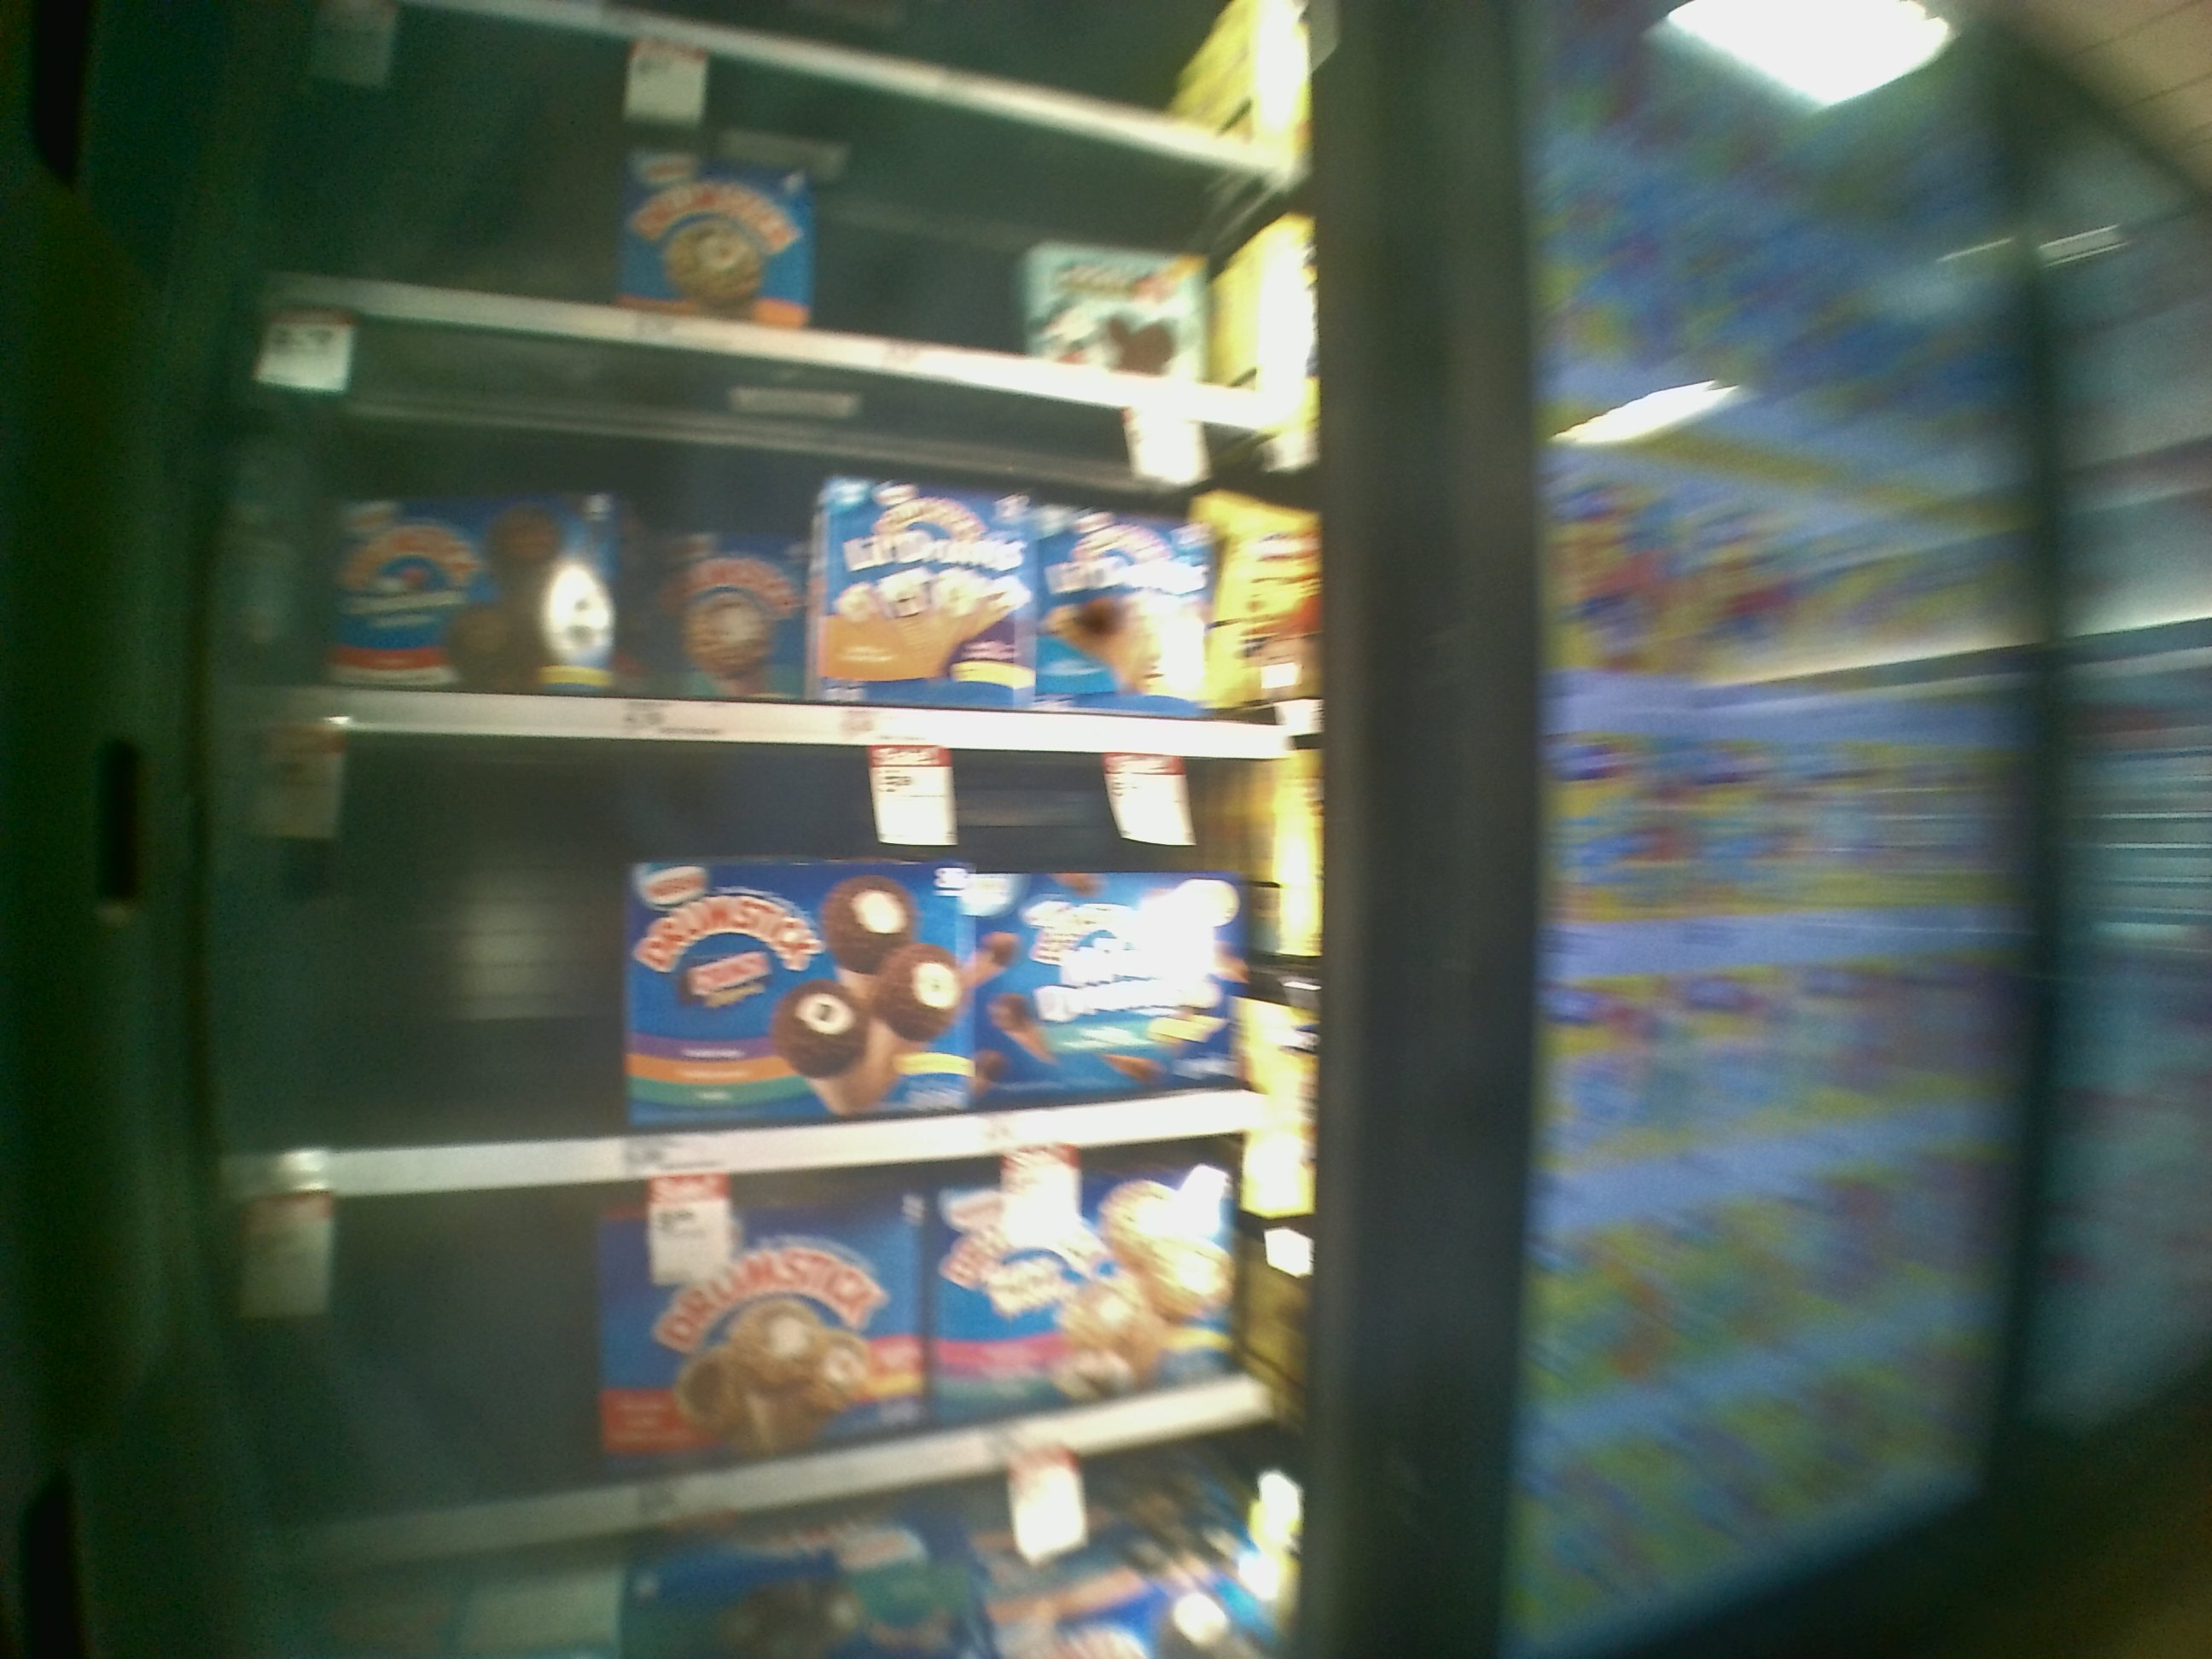shelf: (249, 742, 1355, 1183), (254, 1129, 1331, 1579), (279, 315, 1327, 751)
